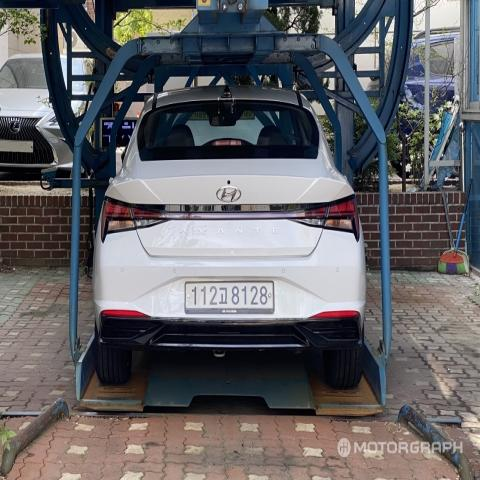LP: (182, 275, 278, 316)
